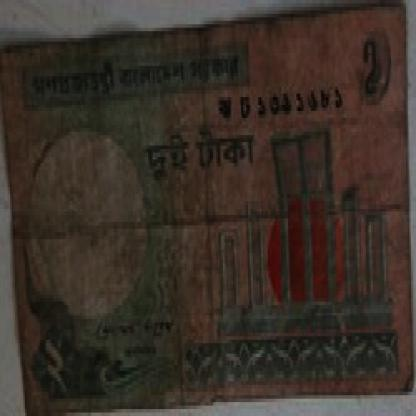two taka: (35, 329, 75, 406), (359, 24, 388, 125)
